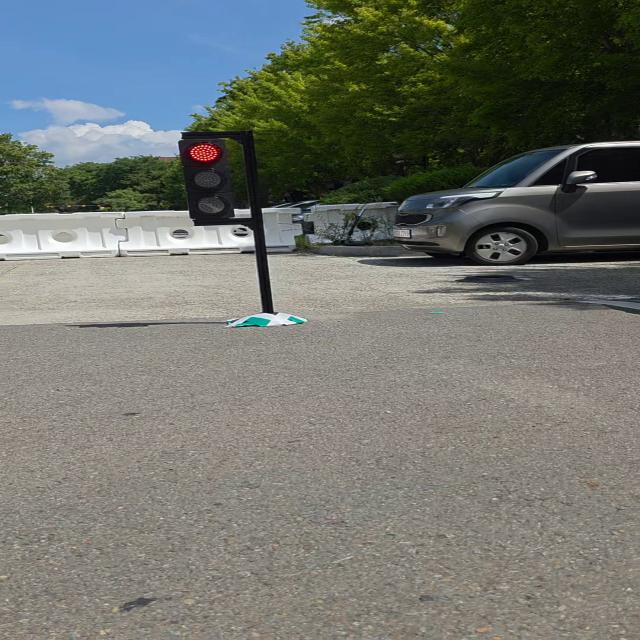red: (175, 140, 240, 224)
